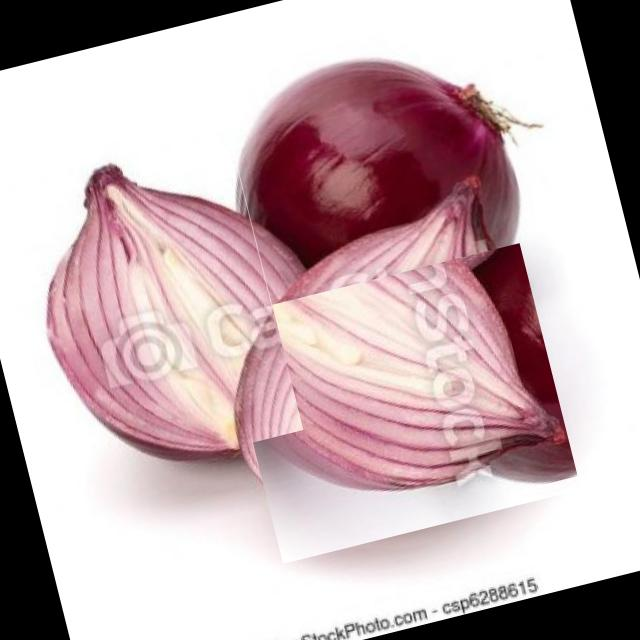Onion: (185, 149, 590, 554), (0, 117, 303, 487), (213, 3, 557, 304)
